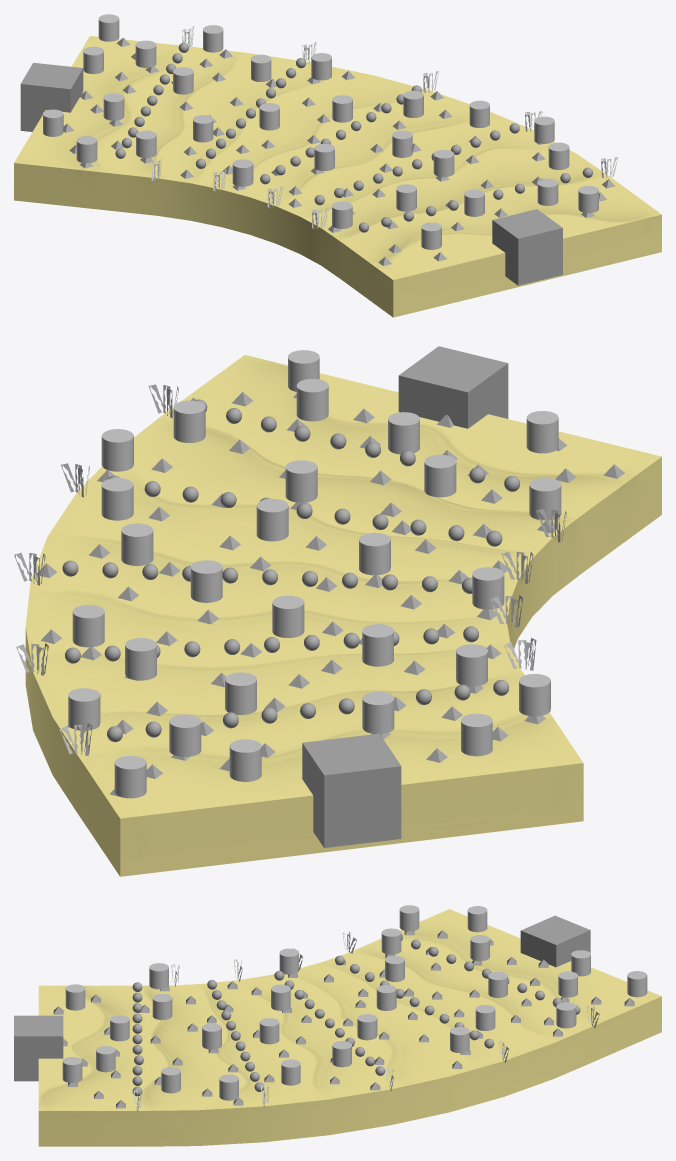
File: assets006_Streckenteil_links001.fbx
The picture shows the model from 3 angles, top to bottom: view 1: azimuth 30°, elevation 25°; view 2: azimuth 150°, elevation 25°; view 3: azimuth 270°, elevation 25°; orthographic projection. The views are drawn at different scales.
Visible parts, largest first — view 1: streckenteil_linkskurve_geo1, a (×12), b (×10), startpoint, endpoint, c (×5), d; view 2: streckenteil_linkskurve_geo1, a (×12), b (×10), endpoint, startpoint, c (×5), d; view 3: streckenteil_linkskurve_geo1, a (×12), b (×10), startpoint, endpoint, c (×5), d.
Part boxes in pixels (x1,y1,x2,y2): streckenteil_linkskurve_geo1: [14, 36, 661, 317]; a (×12): [103, 93, 598, 249]; b (×10): [43, 25, 489, 186]; startpoint: [492, 209, 562, 285]; endpoint: [20, 62, 83, 131]; c (×5): [76, 14, 331, 163]; d: [135, 40, 156, 67]; streckenteil_linkskurve_geo1: [25, 355, 661, 876]; a (×12): [101, 350, 561, 733]; b (×10): [68, 478, 504, 781]; endpoint: [302, 733, 401, 847]; startpoint: [398, 346, 508, 428]; c (×5): [72, 604, 550, 798]; d: [169, 714, 201, 756]; streckenteil_linkskurve_geo1: [38, 909, 661, 1146]; a (×12): [62, 928, 489, 1100]; b (×10): [259, 906, 590, 1085]; startpoint: [14, 1015, 63, 1081]; endpoint: [520, 915, 590, 967]; c (×5): [385, 905, 647, 1052]; d: [558, 971, 577, 997].
Bounding box in the file's own units: 49.37 × 6.68 × 65.57.
